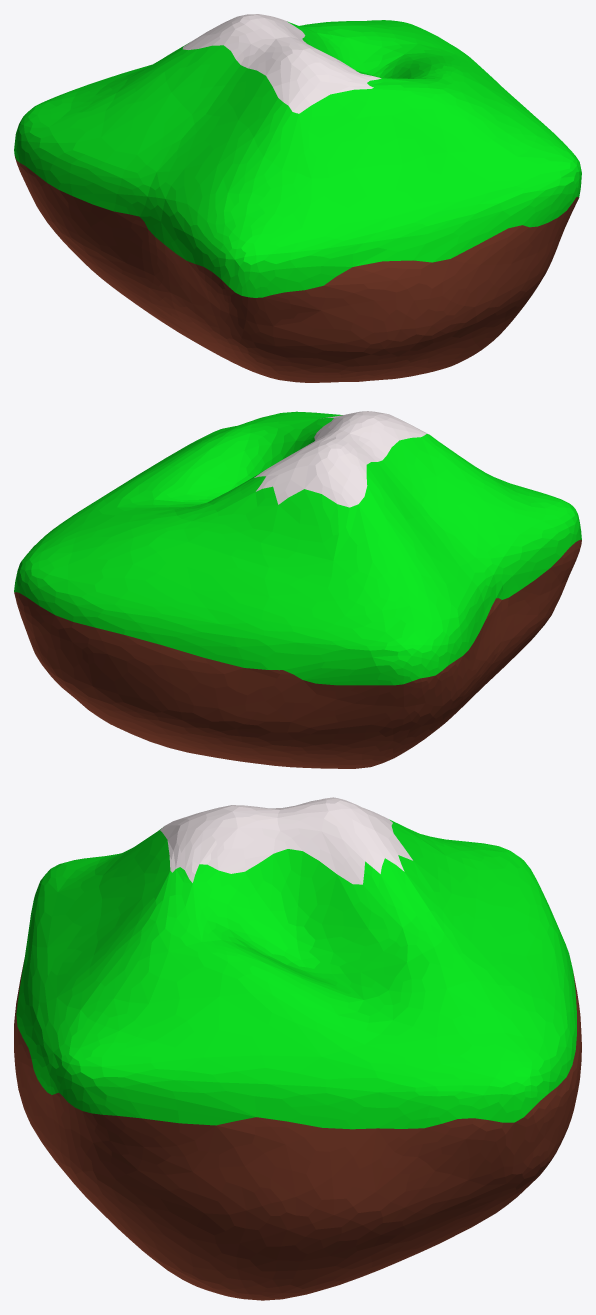
File: Starting Island.fbx
The picture shows the model from 3 angles, top to bottom: view 1: azimuth 30°, elevation 25°; view 2: azimuth 150°, elevation 25°; view 3: azimuth 270°, elevation 25°; orthographic projection. The views are drawn at different scales.
Visible parts, largest first — view 1: Landscape.002; view 2: Landscape.002; view 3: Landscape.002.
Boxes of the visible parts, <box> form: Landscape.002: <box>14,14,581,382</box>; Landscape.002: <box>14,411,581,768</box>; Landscape.002: <box>14,797,581,1300</box>.
Size of the model in its own units: 63740 by 50474 by 61272.
